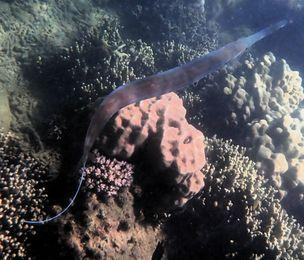Fistularia commersonii: (35, 3, 277, 234)
